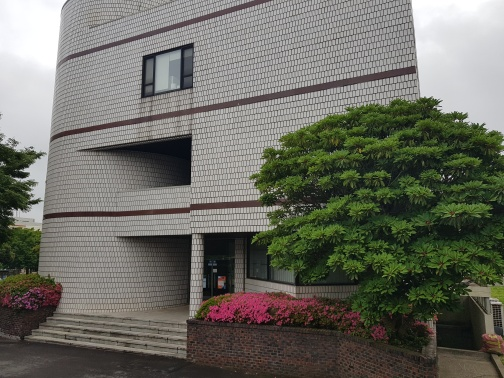Foreign Language Institute: (41, 8, 450, 370)
